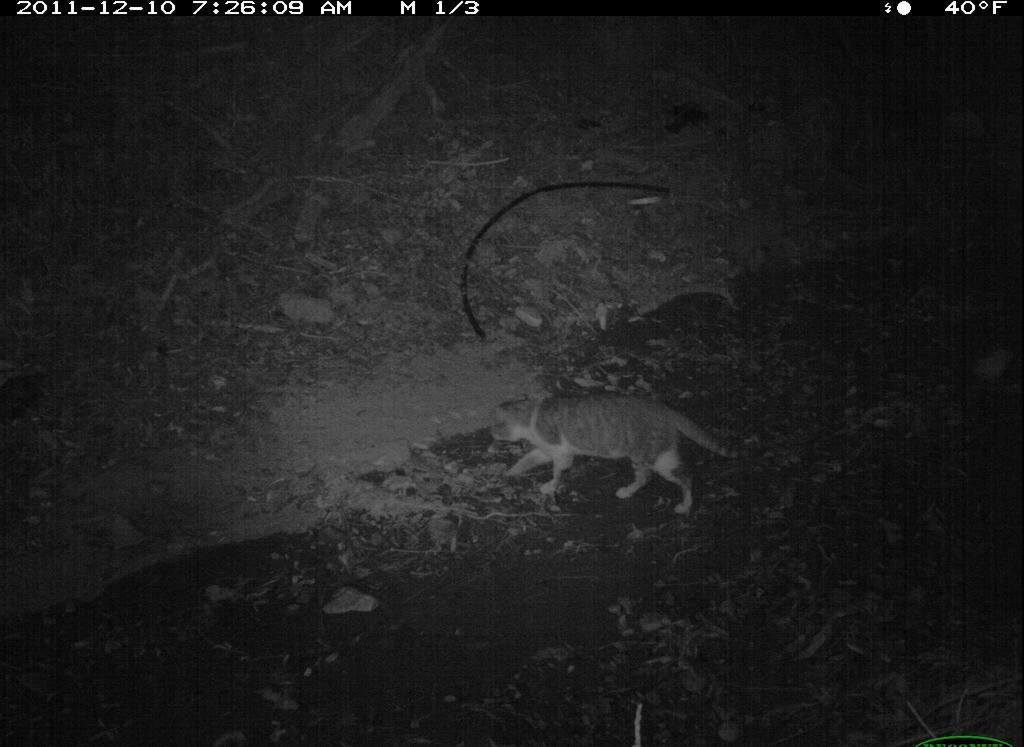cat: (452, 378, 742, 523)
